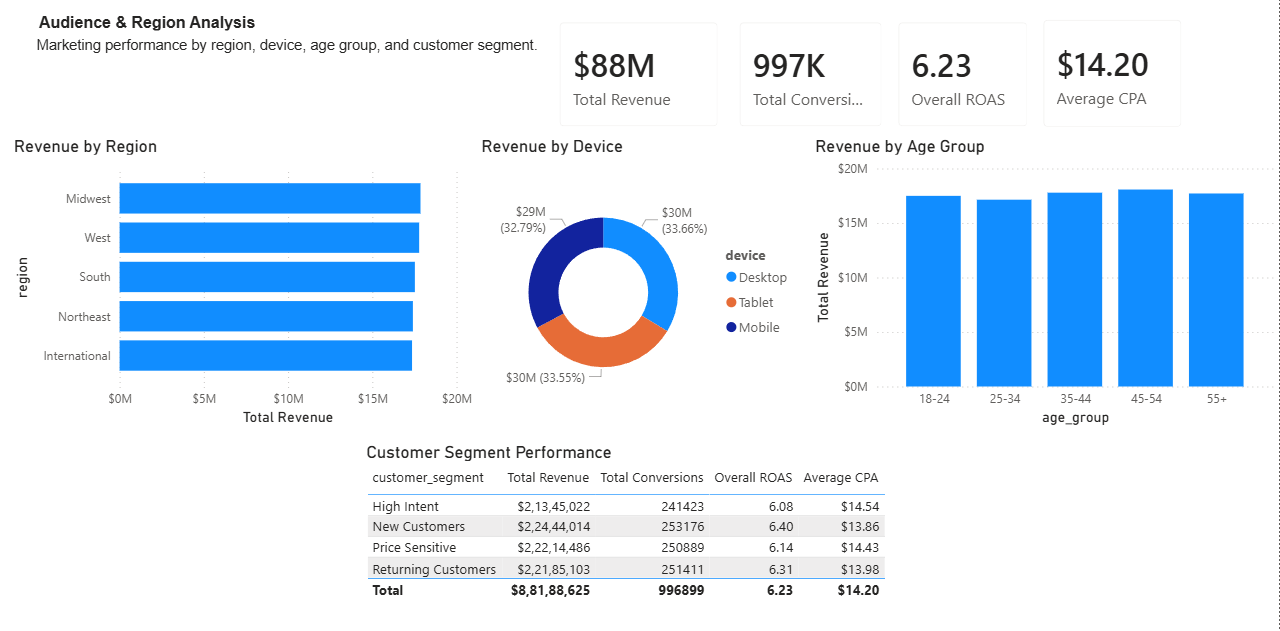

The dashboard page shown, as its layout file describes it:
{"tool":"powerbi","page":{"name":"Audience & Region Analysis","canvas":[1280,720],"ordinal":3},"visuals":[{"type":"textbox","box":[10,11.2,276.2,41.2],"z":0},{"type":"textbox","box":[10,32.5,556.2,47.5],"z":1},{"type":"cardVisual","fields":{"Data":["cleaned_marketing_campaigns.Total Revenue"]},"box":[543.8,7.5,192.5,138.8],"z":2},{"type":"cardVisual","fields":{"Data":["cleaned_marketing_campaigns.Total Conversions"]},"box":[723.8,7.5,176.2,138.8],"z":3},{"type":"cardVisual","fields":{"Data":["cleaned_marketing_campaigns.Overall ROAS"]},"box":[882.5,7.5,163.8,138.8],"z":4},{"type":"cardVisual","fields":{"Data":["cleaned_marketing_campaigns.Average CPA"]},"box":[1027.5,5,172.5,141.2],"z":5},{"type":"clusteredBarChart","title":"Revenue by Region","fields":{"Category":["cleaned_marketing_campaigns.region"],"Y":["cleaned_marketing_campaigns.Total Revenue"]},"box":[10,137.5,468.8,295],"z":6},{"type":"clusteredColumnChart","title":"Revenue by Age Group","fields":{"Category":["cleaned_marketing_campaigns.age_group"],"Y":["cleaned_marketing_campaigns.Total Revenue"]},"box":[811.2,137.5,468.8,295],"z":7},{"type":"donutChart","title":"Revenue by Device","fields":{"Category":["cleaned_marketing_campaigns.device"],"Y":["cleaned_marketing_campaigns.Total Revenue"]},"box":[477.5,137.5,325,295],"z":8},{"type":"tableEx","title":"Customer Segment Performance","fields":{"Values":["cleaned_marketing_campaigns.customer_segment","cleaned_marketing_campaigns.Total Revenue","cleaned_marketing_campaigns.Total Conversions","cleaned_marketing_campaigns.Overall ROAS","cleaned_marketing_campaigns.Average CPA"]},"box":[362.5,443.8,553.8,258.8],"z":9}]}

Visuals, with their boxes on the page's 1280x720 design canvas (x1, y1, x2, y2). These are canvas units, not pixel positions in the 1280x631 screenshot, which may show the page scaled, cropped or inside an application window:
textbox: x1=10 y1=11 x2=286 y2=52
textbox: x1=10 y1=32 x2=566 y2=80
cardVisual - cleaned_marketing_campaigns.Total Revenue: x1=544 y1=8 x2=736 y2=146
cardVisual - cleaned_marketing_campaigns.Total Conversions: x1=724 y1=8 x2=900 y2=146
cardVisual - cleaned_marketing_campaigns.Overall ROAS: x1=882 y1=8 x2=1046 y2=146
cardVisual - cleaned_marketing_campaigns.Average CPA: x1=1028 y1=5 x2=1200 y2=146
"Revenue by Region" clusteredBarChart: x1=10 y1=138 x2=479 y2=432
"Revenue by Age Group" clusteredColumnChart: x1=811 y1=138 x2=1280 y2=432
"Revenue by Device" donutChart: x1=478 y1=138 x2=802 y2=432
"Customer Segment Performance" tableEx: x1=362 y1=444 x2=916 y2=703
